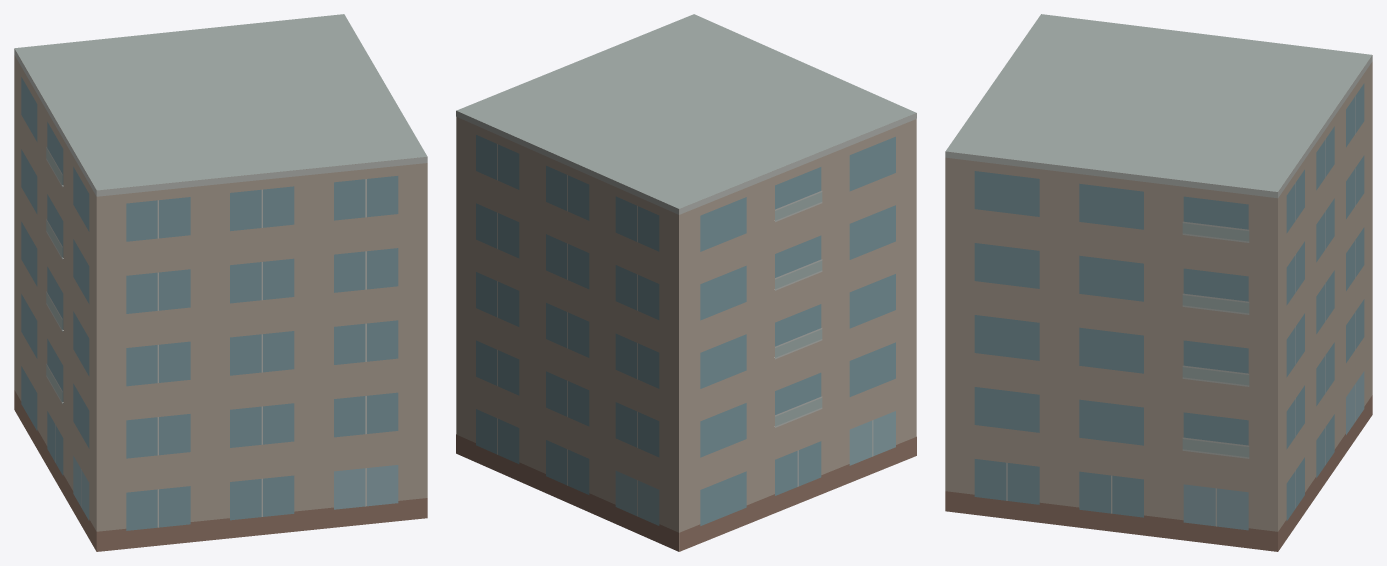
The model's file is survey-upis-32880773.glb.
The picture shows the model from 3 angles, left to right: view 1: azimuth 30°, elevation 25°; view 2: azimuth 150°, elevation 25°; view 3: azimuth 270°, elevation 25°; orthographic projection. The views are drawn at different scales.
Visible parts, largest first — view 1: survey-upis-32880773.tmp; view 2: survey-upis-32880773.tmp; view 3: survey-upis-32880773.tmp.
Boxes of the visible parts, <box> form: survey-upis-32880773.tmp: <box>14,14,427,551</box>; survey-upis-32880773.tmp: <box>456,14,916,551</box>; survey-upis-32880773.tmp: <box>945,14,1372,551</box>.
Size of the model in its own units: 14.98 by 14.1 by 15.18.
